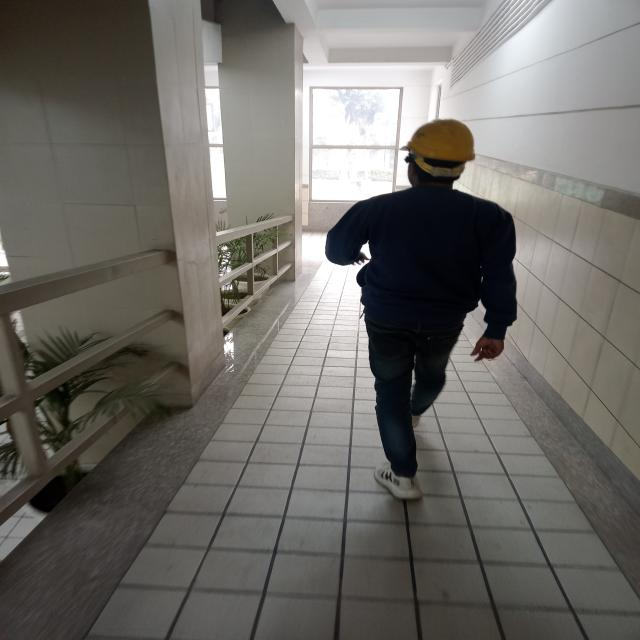no jacket: (337, 109, 514, 507)
